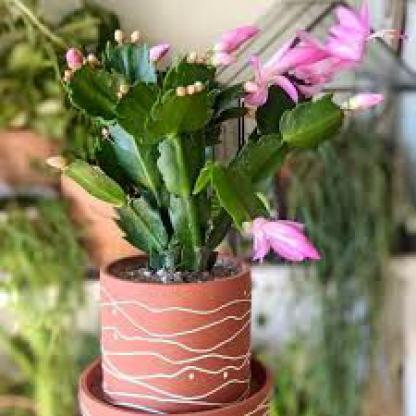Aglonema: (4, 40, 389, 416)
